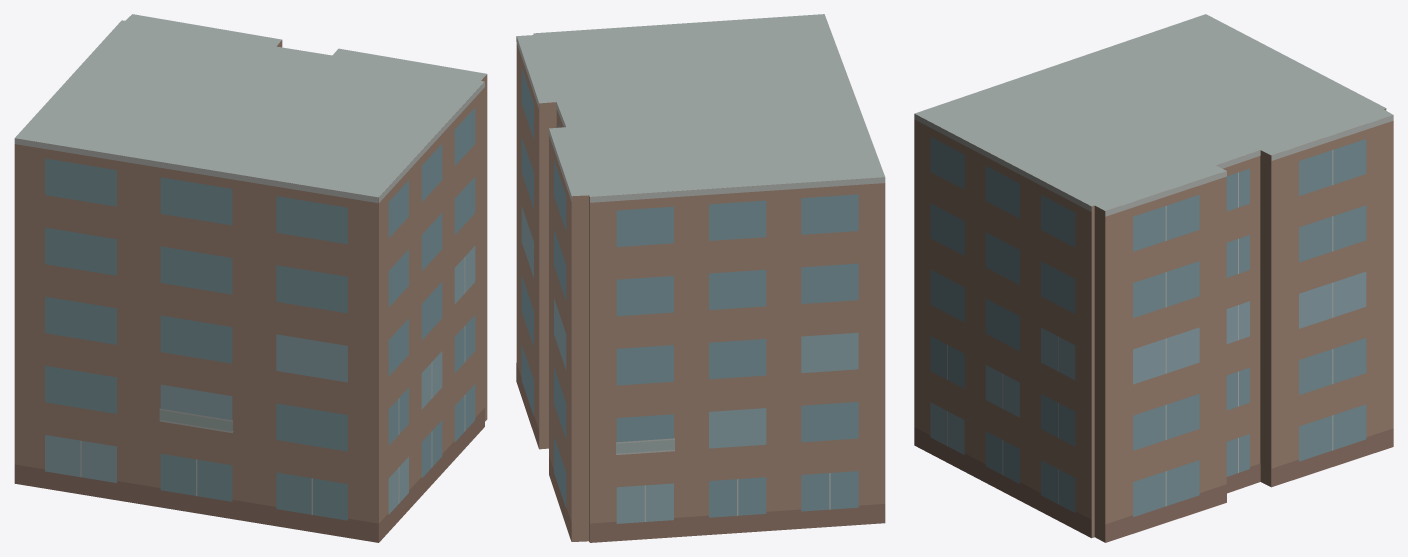
File: survey-upis-32985682.glb
3 renders of one model, left to right at view 1: azimuth 30°, elevation 25°; view 2: azimuth 150°, elevation 25°; view 3: azimuth 270°, elevation 25°, orthographic. The views are drawn at different scales.
Visible parts, largest first — view 1: survey-upis-32985682.tmp; view 2: survey-upis-32985682.tmp; view 3: survey-upis-32985682.tmp.
Part boxes in pixels (bbox=[...]): survey-upis-32985682.tmp: bbox=[14, 14, 487, 542]; survey-upis-32985682.tmp: bbox=[516, 14, 885, 542]; survey-upis-32985682.tmp: bbox=[914, 14, 1393, 542].
Size of the model in its own units: 18.36 by 14.4 by 18.86.
